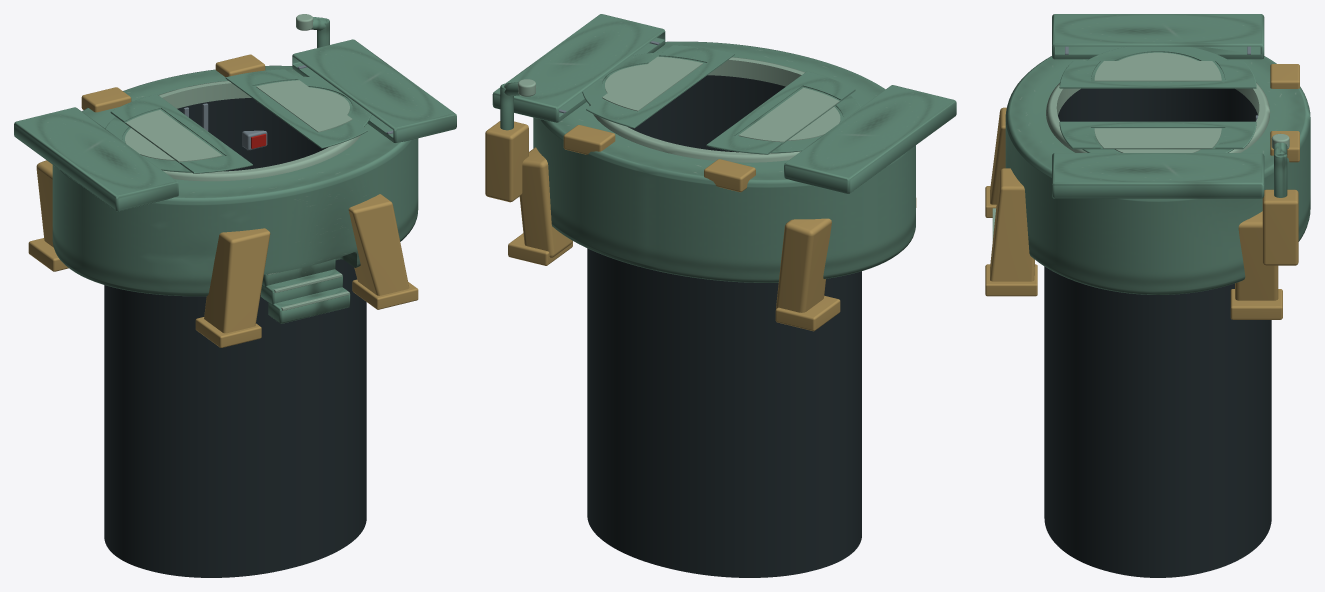
The model's file is descriptor-06.glb.
3 views of the same model, side by side, from view 1: azimuth 30°, elevation 25°; view 2: azimuth 150°, elevation 25°; view 3: azimuth 270°, elevation 25° (orthographic). The views are drawn at different scales.
Parts seen in each view (by area): view 1: RI10 shaft wall below ground, RI10 fixed oval body, RI10 enclosed side cover cassette, RI10 enclosed side cover cassette.001, RI10 front splayed brass buttress, RI10 front splayed brass buttress.001, RI10 green aperture coaming, RI10 left cover shell inner segment, RI10 right cover shell inner segment, RI10 recessed green cover field inner segment.001, RI10 recessed green cover field inner segment, RI10 front access step 0 (+11 smaller); view 2: RI10 shaft wall below ground, RI10 fixed oval body, RI10 enclosed side cover cassette, RI10 enclosed side cover cassette.001, RI10 rear brass load-bearing buttress, RI10 green aperture coaming, RI10 rear brass load-bearing buttress.001, RI10 left cover shell inner segment, RI10 right equipment mast foundation, RI10 right cover shell inner segment, RI10 recessed green cover field inner segment, RI10 recessed green cover field inner segment.001 (+7 smaller); view 3: RI10 shaft wall below ground, RI10 fixed oval body, RI10 enclosed side cover cassette.001, RI10 enclosed side cover cassette, RI10 front splayed brass buttress.001, RI10 right cover shell inner segment, RI10 left cover shell inner segment, RI10 right equipment mast foundation, RI10 recessed green cover field inner segment, RI10 recessed green cover field inner segment.001, RI10 rear brass load-bearing buttress.001, RI10 green aperture coaming (+8 smaller).
Boxes of the visible parts, x1=… form: RI10 shaft wall below ground: x1=104, y1=98, x2=366, y2=577; RI10 fixed oval body: x1=52, y1=65, x2=418, y2=296; RI10 enclosed side cover cassette: x1=14, y1=107, x2=178, y2=211; RI10 enclosed side cover cassette.001: x1=292, y1=39, x2=456, y2=142; RI10 front splayed brass buttress: x1=204, y1=228, x2=270, y2=333; RI10 front splayed brass buttress.001: x1=348, y1=194, x2=409, y2=295; RI10 green aperture coaming: x1=158, y1=80, x2=364, y2=181; RI10 left cover shell inner segment: x1=110, y1=94, x2=252, y2=173; RI10 right cover shell inner segment: x1=225, y1=69, x2=367, y2=148; RI10 recessed green cover field inner segment.001: x1=256, y1=80, x2=352, y2=132; RI10 recessed green cover field inner segment: x1=126, y1=110, x2=222, y2=161; RI10 front access step 0: x1=268, y1=287, x2=350, y2=323; RI10 shaft wall below ground: x1=587, y1=75, x2=861, y2=577; RI10 fixed oval body: x1=533, y1=41, x2=915, y2=282; RI10 enclosed side cover cassette: x1=784, y1=85, x2=956, y2=193; RI10 enclosed side cover cassette.001: x1=492, y1=14, x2=665, y2=122; RI10 rear brass load-bearing buttress: x1=776, y1=218, x2=831, y2=312; RI10 green aperture coaming: x1=589, y1=57, x2=804, y2=162; RI10 rear brass load-bearing buttress.001: x1=519, y1=147, x2=572, y2=257; RI10 left cover shell inner segment: x1=706, y1=71, x2=855, y2=154; RI10 right equipment mast foundation: x1=485, y1=121, x2=528, y2=202; RI10 right cover shell inner segment: x1=586, y1=45, x2=734, y2=128; RI10 recessed green cover field inner segment: x1=738, y1=87, x2=839, y2=142; RI10 recessed green cover field inner segment.001: x1=602, y1=56, x2=702, y2=111; RI10 shaft wall below ground: x1=1044, y1=88, x2=1271, y2=577; RI10 fixed oval body: x1=1005, y1=56, x2=1310, y2=294; RI10 enclosed side cover cassette.001: x1=1052, y1=153, x2=1264, y2=198; RI10 enclosed side cover cassette: x1=1052, y1=14, x2=1264, y2=59; RI10 front splayed brass buttress.001: x1=990, y1=168, x2=1034, y2=281; RI10 right cover shell inner segment: x1=1059, y1=121, x2=1256, y2=149; RI10 left cover shell inner segment: x1=1059, y1=61, x2=1256, y2=88; RI10 right equipment mast foundation: x1=1262, y1=189, x2=1298, y2=265; RI10 recessed green cover field inner segment: x1=1094, y1=61, x2=1221, y2=81; RI10 recessed green cover field inner segment.001: x1=1094, y1=128, x2=1221, y2=148; RI10 rear brass load-bearing buttress.001: x1=1235, y1=211, x2=1278, y2=300; RI10 green aperture coaming: x1=1046, y1=82, x2=1270, y2=152.
Bounding box in the file's own units: 2.7 × 3.31 × 2.17.
Materials: 7 (2 with a texture image).
